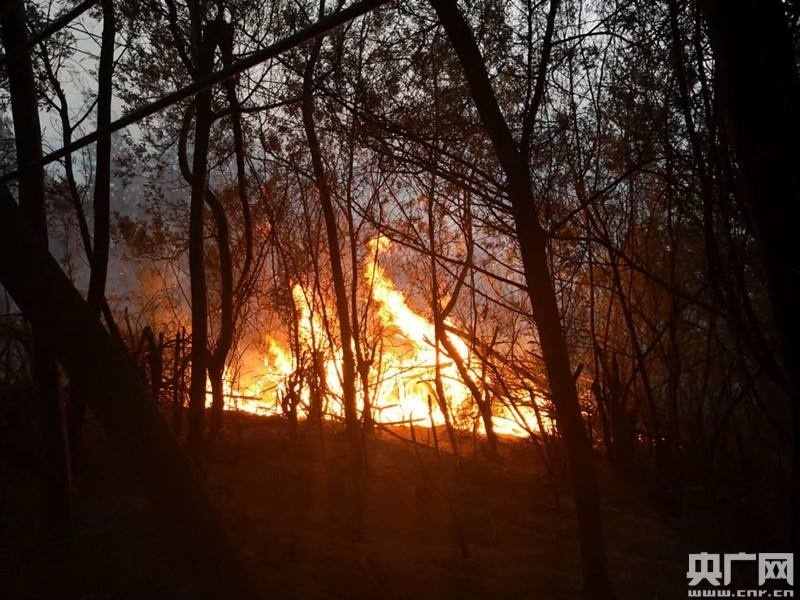fire: (201, 232, 562, 436)
